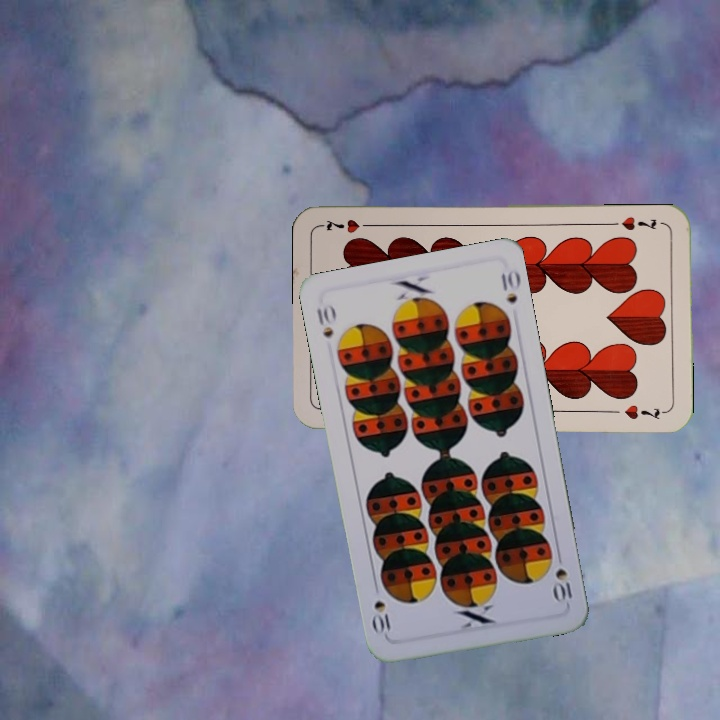H7: (617, 212, 659, 233)
S10: (550, 548, 576, 605), (313, 301, 338, 341)
